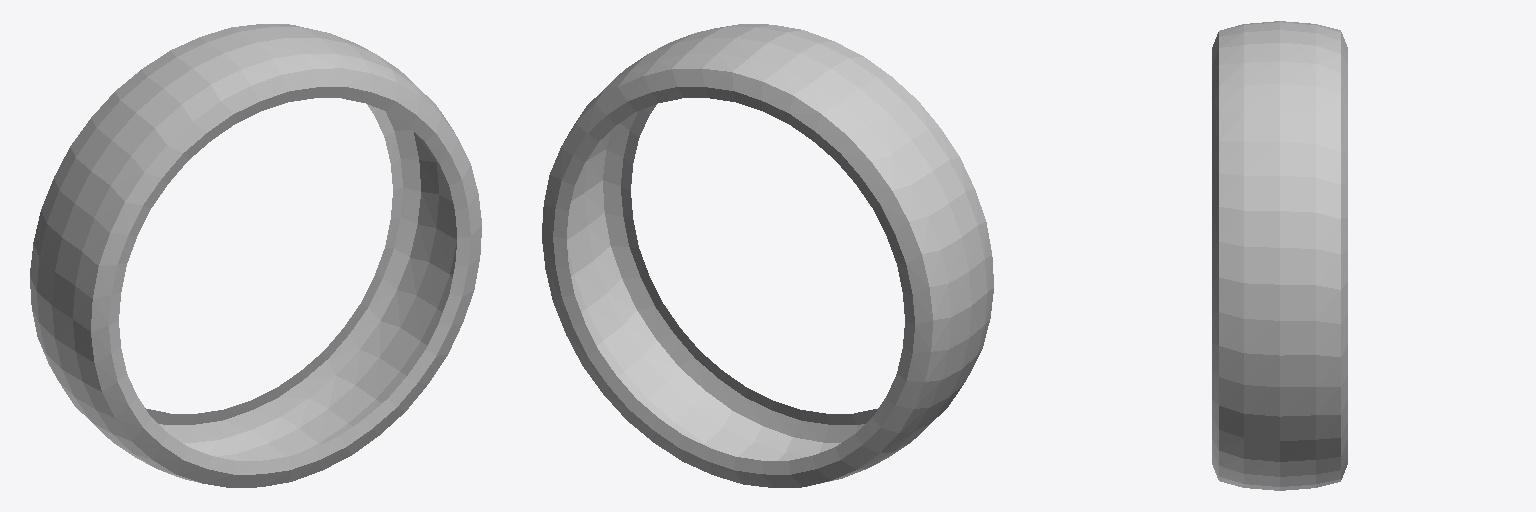
File: luxoball_0.obj
3 views of the same model, side by side, from view 1: azimuth 30°, elevation 25°; view 2: azimuth 150°, elevation 25°; view 3: azimuth 270°, elevation 25° (orthographic).
Parts seen in each view (by area): view 1: default.002; view 2: default.002; view 3: default.002.
Boxes of the visible parts, box(x1,y1,x2,y2) form: default.002: box(30, 24, 481, 487); default.002: box(542, 24, 993, 487); default.002: box(1212, 21, 1347, 490).
Bounding box in the file's own units: 0.9291 × 0.9291 × 0.2673.